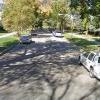Tree: (38, 1, 92, 37)
